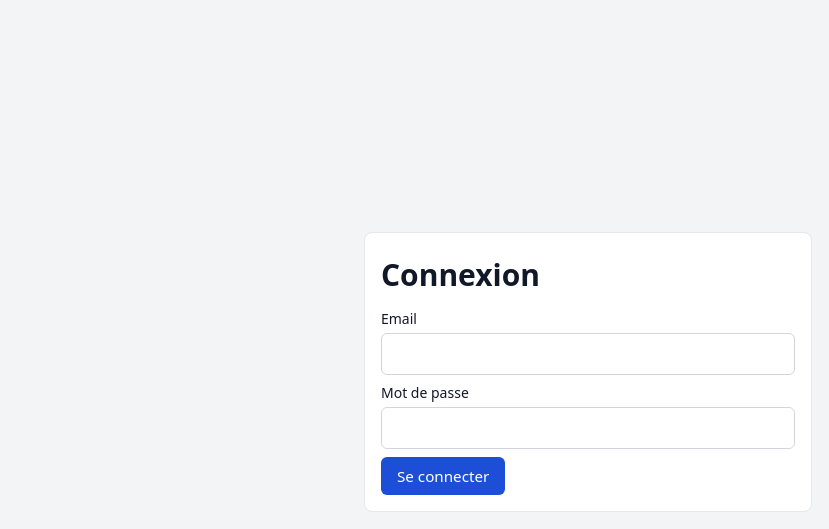
Scenario: Login › redirige un admin vers son espace après connexion
In the field labelled "Email": (588, 354) [381,333,795,375], type "admin@test.com"
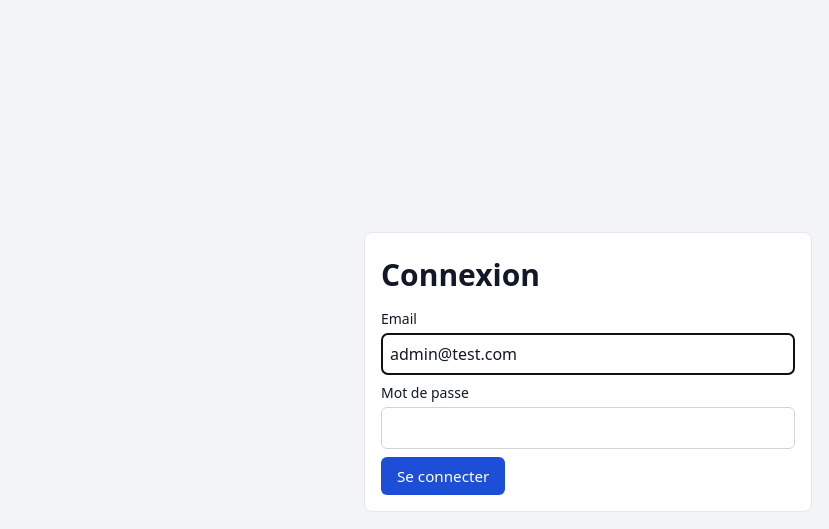
In the password field labelled "Mot de passe": (588, 428) [381,407,795,449], type "secret123"
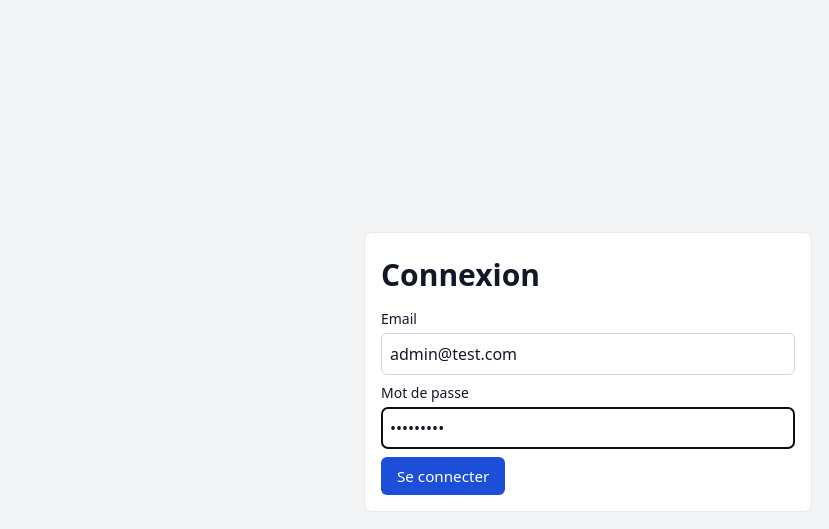
Click the button "Se connecter": (443, 476) [381,457,505,495]
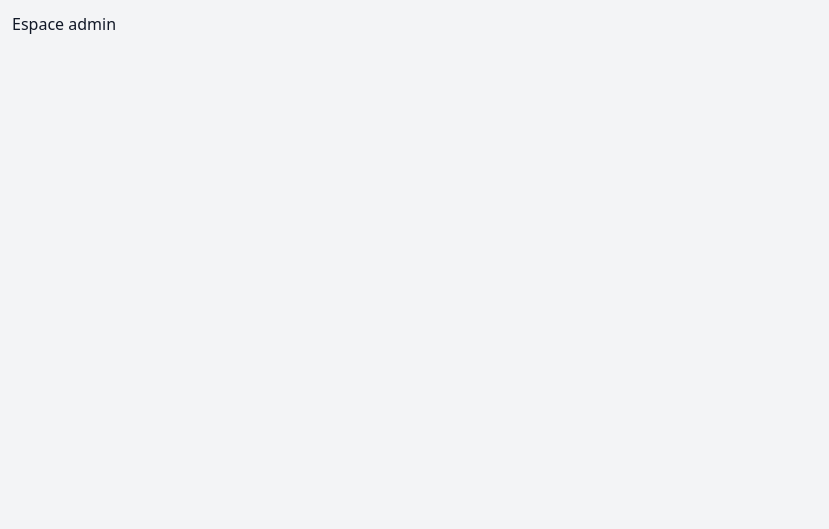
Check: the text "Espace admin" is shown, box [12,13,116,35]
